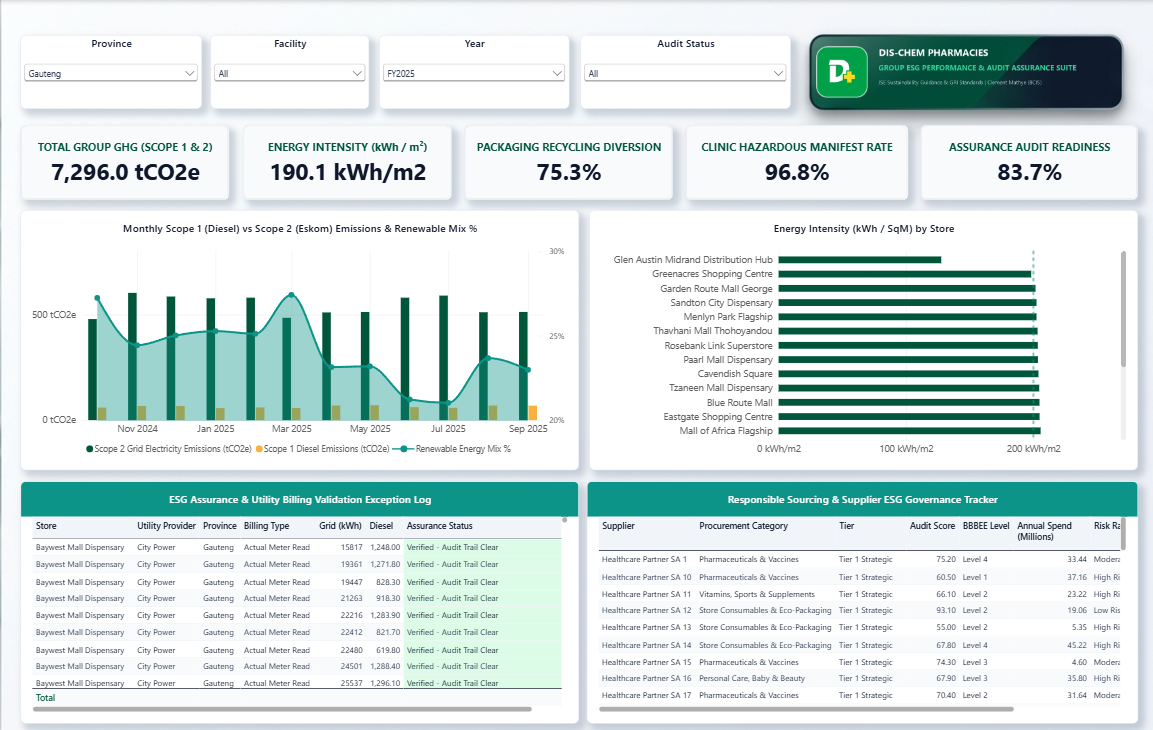

The page's visual inventory and layout, read from the dashboard file:
{"tool":"powerbi","page":{"name":"Page 1","canvas":[1920,1080],"ordinal":0},"visuals":[{"type":"slicer","title":"Province","fields":{"Values":["Dim_Stores.Province"]},"box":[136.2,51.5,266.9,108.6],"z":0},{"type":"slicer","title":"Facility","fields":{"Values":["Dim_Stores.Facility_Type"]},"box":[416,51.5,233.7,108.6],"z":1000},{"type":"slicer","title":"Year","fields":{"Values":["Dim_Calendar.Fiscal_Year"]},"box":[664.4,51.5,279.8,108.6],"z":2000},{"type":"slicer","title":"Audit Status","fields":{"Values":["Fact_Store_ESG_Monthly.Assurance_Audit_Status"]},"box":[960.7,51.5,309.2,108.6],"z":3000},{"type":"cardVisual","fields":{"Data":["_Measures.Total Scope 1 & 2 Emissions (tCO2e)"]},"box":[136.9,184.4,307.4,110.4],"z":4000},{"type":"cardVisual","fields":{"Data":["_Measures.Energy Intensity (kWh / SqM)"]},"box":[464.5,184.4,307.4,110.4],"z":5000},{"type":"cardVisual","fields":{"Data":["_Measures.Packaging Recycling Diversion Rate %"]},"box":[790.3,184.4,307.4,110.4],"z":6000},{"type":"cardVisual","fields":{"Data":["_Measures.Medical Waste Manifest Compliance Rate %"]},"box":[1116.1,184.4,327.6,110.4],"z":7000},{"type":"cardVisual","fields":{"Data":["_Measures.Assurance Audit Readiness %"]},"box":[1461.4,184.1,320.2,110.4],"z":8000},{"type":"lineClusteredColumnComboChart","title":"Monthly Scope 1 (Diesel) vs Scope 2 (Eskom) Emissions & Renewable Mix %    ","fields":{"Category":["Dim_Calendar.Month_Year"],"Y":["_Measures.Scope 2 Grid Electricity Emissions (tCO2e)","_Measures.Scope 1 Diesel Emissions (tCO2e)"],"Y2":["_Measures.Renewable Energy Mix %"]},"box":[136.2,309.2,822.7,382.8],"z":9000},{"type":"clusteredBarChart","title":"Energy Intensity (kWh / SqM) by Store","fields":{"Category":["Dim_Stores.Store_Name"],"Y":["_Measures.Energy Intensity (kWh / SqM)"]},"box":[973.6,309.2,808,382.8],"z":10000},{"type":"tableEx","title":"ESG Assurance & Utility Billing Validation Exception Log    ","fields":{"Values":["Dim_Stores.Store_Name","Dim_Stores.Utility_Provider","Dim_Stores.Province","Fact_Store_ESG_Monthly.Municipal_Billing_Type","Fact_Store_ESG_Monthly.Grid_Electricity_kWh","Fact_Store_ESG_Monthly.Generator_Diesel_Litres","Fact_Store_ESG_Monthly.Assurance_Audit_Status"]},"box":[136.2,708.6,822.7,357.1],"z":11000},{"type":"tableEx","title":"Responsible Sourcing & Supplier ESG Governance Tracker","fields":{"Values":["Dim_Suppliers_ESG.Supplier_Name","Dim_Suppliers_ESG.Procurement_Category","Dim_Suppliers_ESG.Supplier_Tier","Dim_Suppliers_ESG.ESG_Audit_Score","Dim_Suppliers_ESG.BBBEE_Level","Dim_Suppliers_ESG.Annual_Spend_ZAR_Millions","Dim_Suppliers_ESG.ESG_Risk_Rating"]},"box":[969.9,708.6,811.7,357.1],"z":12000},{"type":"image","box":[1295.7,31.3,596.3,149.1],"z":12001}]}

Visuals, with their boxes on the page's 1920x1080 design canvas (x1, y1, x2, y2). These are canvas units, not pixel positions in the 1153x730 screenshot, which may show the page scaled, cropped or inside an application window:
"Province" slicer: [left=136, top=52, right=403, bottom=160]
"Facility" slicer: [left=416, top=52, right=650, bottom=160]
"Year" slicer: [left=664, top=52, right=944, bottom=160]
"Audit Status" slicer: [left=961, top=52, right=1270, bottom=160]
cardVisual - _Measures.Total Scope 1 & 2 Emissions (tCO2e): [left=137, top=184, right=444, bottom=295]
cardVisual - _Measures.Energy Intensity (kWh / SqM): [left=464, top=184, right=772, bottom=295]
cardVisual - _Measures.Packaging Recycling Diversion Rate %: [left=790, top=184, right=1098, bottom=295]
cardVisual - _Measures.Medical Waste Manifest Compliance Rate %: [left=1116, top=184, right=1444, bottom=295]
cardVisual - _Measures.Assurance Audit Readiness %: [left=1461, top=184, right=1782, bottom=294]
"Monthly Scope 1 (Diesel) vs Scope 2 (Eskom) Emissions & Renewable Mix %    " lineClusteredColumnComboChart: [left=136, top=309, right=959, bottom=692]
"Energy Intensity (kWh / SqM) by Store" clusteredBarChart: [left=974, top=309, right=1782, bottom=692]
"ESG Assurance & Utility Billing Validation Exception Log    " tableEx: [left=136, top=709, right=959, bottom=1066]
"Responsible Sourcing & Supplier ESG Governance Tracker" tableEx: [left=970, top=709, right=1782, bottom=1066]
image: [left=1296, top=31, right=1892, bottom=180]
